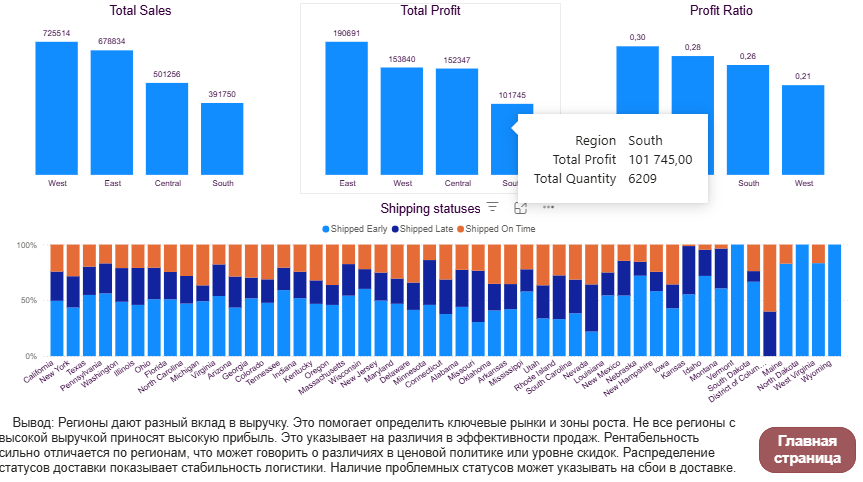

This screenshot's page, from the dashboard's own definition file:
{"tool":"powerbi","page":{"name":"Продажи по регионам","canvas":[1280,720],"ordinal":4},"visuals":[{"type":"hundredPercentStackedColumnChart","title":"Shipping statuses","fields":{"Category":["Sample.State"],"Series":["Sample.Ship Status"],"Y":["Sample.Total Quantity"]},"box":[22.3,302.4,1235.8,310.3],"z":0},{"type":"clusteredColumnChart","title":"Profit Ratio","fields":{"Category":["Sample.Region"],"Y":["Sample.Profit Ratio"]},"box":[875.2,11.8,383,280.5],"z":1000},{"type":"clusteredColumnChart","title":"Total Profit","fields":{"Category":["Sample.Region"],"Y":["Sample.Total Profit"]},"box":[448.5,11.8,383,280.5],"z":2000},{"type":"clusteredColumnChart","title":"Total Sales","fields":{"Category":["Sample.Region"],"Y":["Sample.Total Sales"]},"box":[21.8,11.8,383,280.5],"z":3000},{"type":"textbox","box":[0,612.7,1105,107.3],"z":4000},{"type":"actionButton","box":[1122.6,634.8,142.5,67.6],"z":5000}]}

Visuals, with their boxes in screenshot pixels (x1, y1, x2, y2), scaled from the page's 1280x720 canvas onto the 863x482 screenshot:
"Shipping statuses" hundredPercentStackedColumnChart: crop(15, 202, 848, 410)
"Profit Ratio" clusteredColumnChart: crop(590, 8, 848, 196)
"Total Profit" clusteredColumnChart: crop(302, 8, 561, 196)
"Total Sales" clusteredColumnChart: crop(15, 8, 273, 196)
textbox: crop(0, 410, 745, 481)
actionButton: crop(757, 425, 853, 470)
